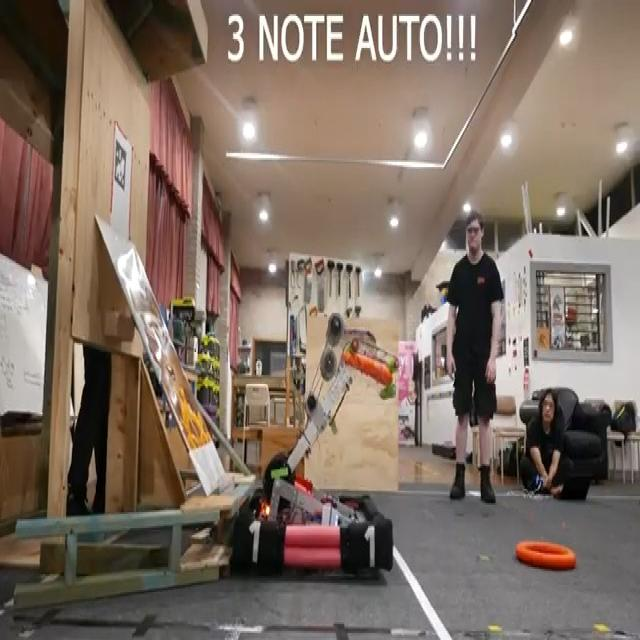note: (0, 45, 60, 326), (512, 530, 582, 574), (342, 352, 392, 387)
